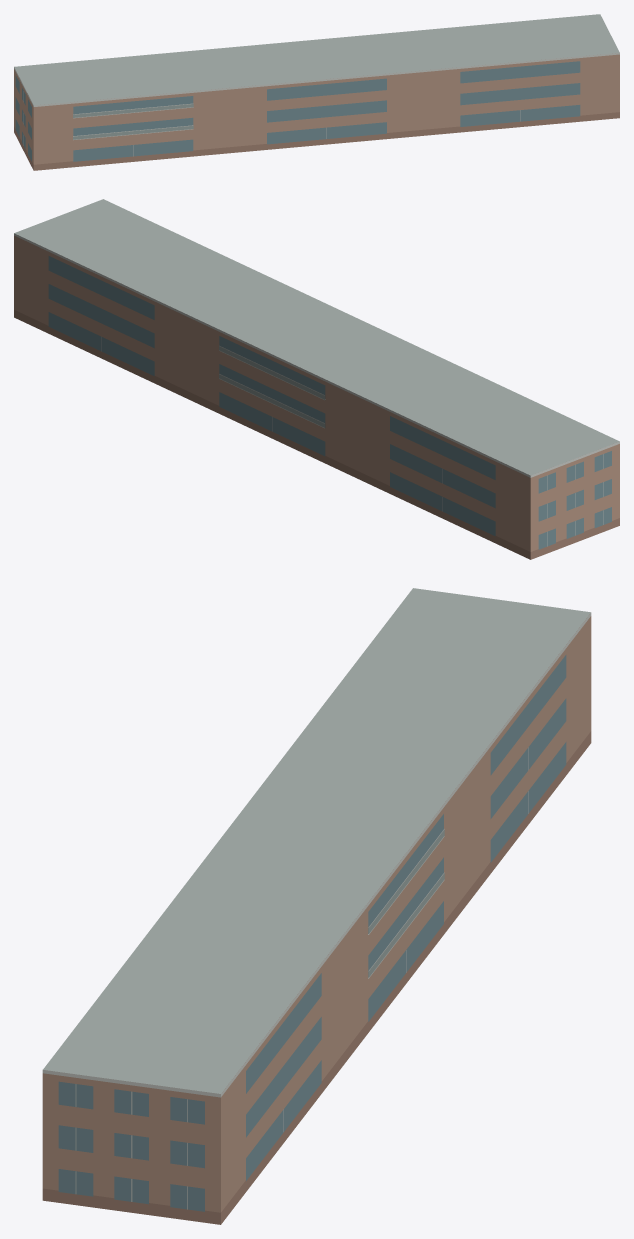
Rendered from survey-upis-32676476.glb.
3 renders of one model, top to bottom at view 1: azimuth 30°, elevation 25°; view 2: azimuth 150°, elevation 25°; view 3: azimuth 270°, elevation 25°, orthographic. The views are drawn at different scales.
Visible parts, largest first — view 1: survey-upis-32676476.tmp; view 2: survey-upis-32676476.tmp; view 3: survey-upis-32676476.tmp.
Part boxes in pixels (x1,y1,x2,y2): survey-upis-32676476.tmp: [14, 14, 619, 170]; survey-upis-32676476.tmp: [14, 199, 619, 559]; survey-upis-32676476.tmp: [42, 588, 591, 1224].
Bounding box in the file's own units: 75.89 × 9.15 × 34.77.
